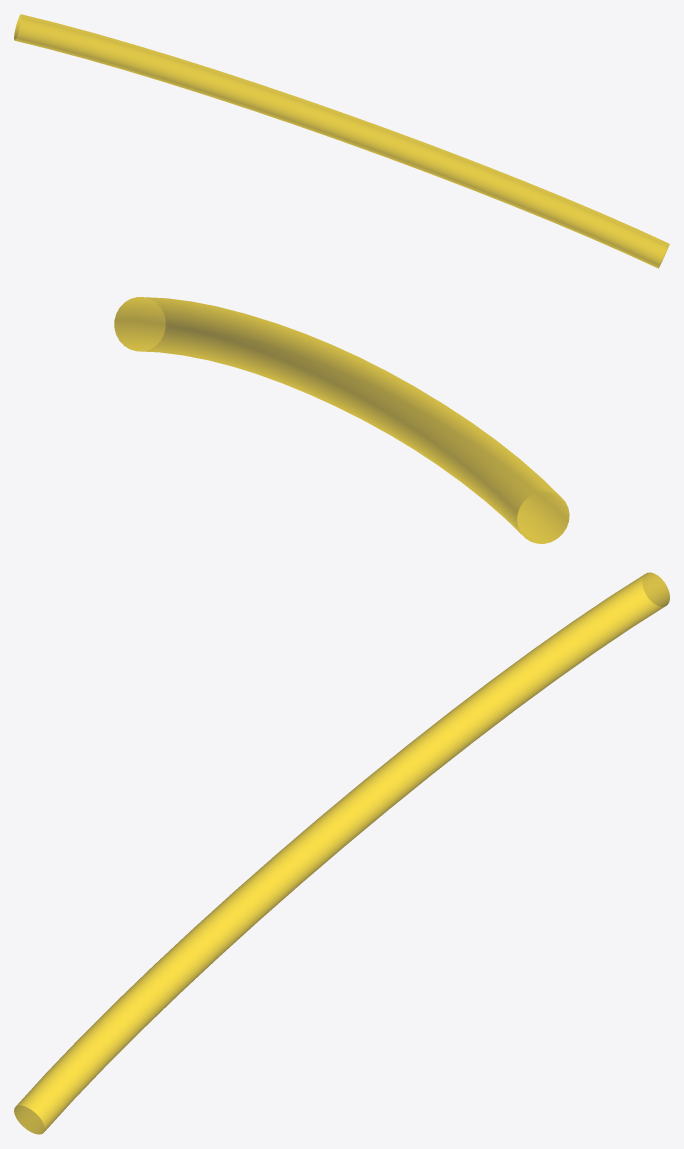
File: Event_31209032_track_3.fbx
3 renders of one model, top to bottom at view 1: azimuth 30°, elevation 25°; view 2: azimuth 150°, elevation 25°; view 3: azimuth 270°, elevation 25°, orthographic. The views are drawn at different scales.
Parts seen in each view (by area): view 1: Model; view 2: Model; view 3: Model.
Part boxes in pixels (x1=…): Model: x1=14, y1=14, x2=669, y2=268; Model: x1=114, y1=297, x2=569, y2=543; Model: x1=14, y1=572, x2=669, y2=1134.
Bounding box in the file's own units: 0.7446 × 0.312 × 0.6815.
